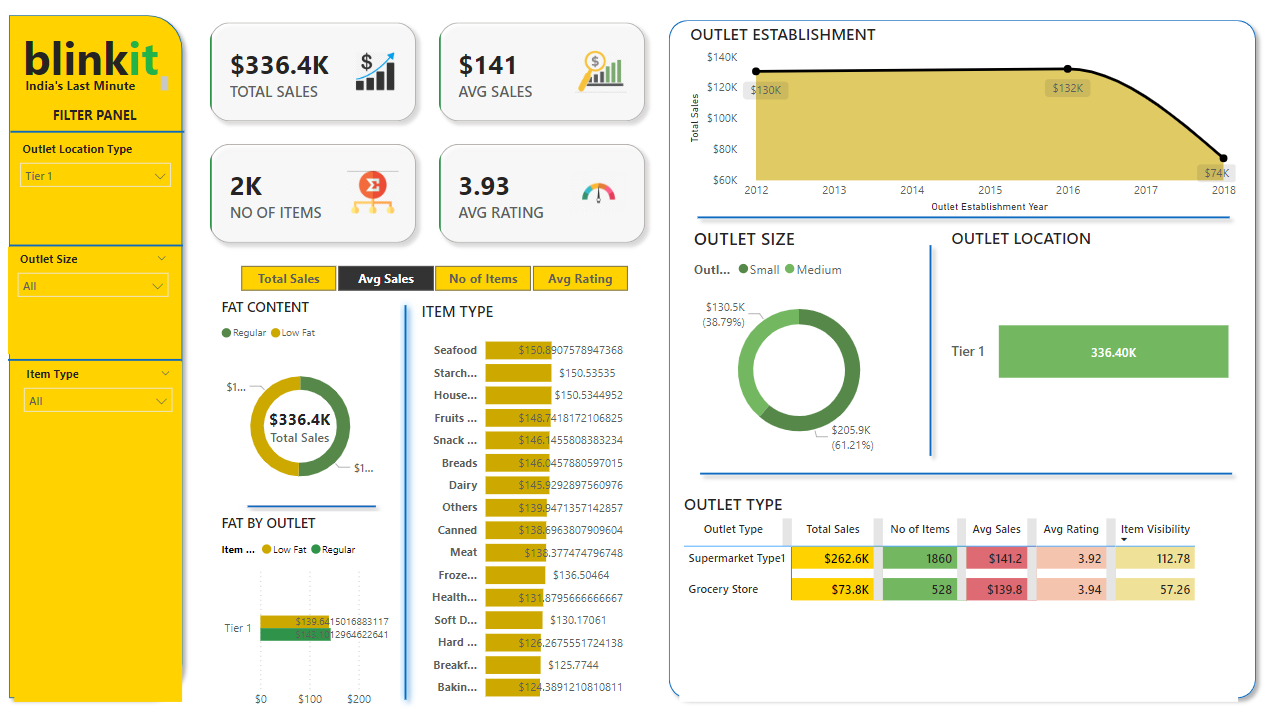

The page's visual inventory and layout, read from the dashboard file:
{"tool":"powerbi","page":{"name":"Page 1","canvas":[1400,800],"ordinal":0},"visuals":[{"type":"shape","box":[13.5,25.5,204.1,750.4],"z":0},{"type":"textbox","box":[31.5,42,171.1,84],"z":1000},{"type":"textbox","box":[34.5,94.6,163.6,31.5],"z":2000},{"type":"cardVisual","fields":{"Data":["BlinkIT Grocery Data.Total Sales","BlinkIT Grocery Data.Avg Sales","BlinkIT Grocery Data.No of Items","BlinkIT Grocery Data.Avg Rating"]},"box":[221.2,25.5,500,270.8],"z":3000},{"type":"donutChart","title":"FAT CONTENT","fields":{"Y":["BlinkIT Grocery Data.No of Items"],"Category":["BlinkIT Grocery Data.Item Fat Content"]},"box":[245.3,336.5,179.6,230.6],"z":4000},{"type":"slicer","fields":{"Values":["Metrics.Metrics"]},"box":[245.3,296.2,465.1,40.2],"z":5000},{"type":"cardVisual","fields":{"Data":["BlinkIT Grocery Data.Total Sales"]},"box":[282.8,437,103.2,77.7],"z":6000},{"type":"clusteredBarChart","title":"FAT BY OUTLET","fields":{"Y":["BlinkIT Grocery Data.No of Items"],"Category":["BlinkIT Grocery Data.Outlet Location Type"],"Series":["BlinkIT Grocery Data.Item Fat Content"]},"box":[245.3,568.4,202.4,217.2],"z":7000},{"type":"shape","box":[435.7,336.5,24.1,441],"z":8000},{"type":"shape","box":[269.4,552.3,155.5,14.7],"z":9000},{"type":"barChart","title":"ITEM TYPE","fields":{"Y":["BlinkIT Grocery Data.No of Items"],"Category":["BlinkIT Grocery Data.Item Type"]},"box":[459.8,340.5,226.5,439.7],"z":10000},{"type":"shape","box":[721.2,30.8,647.5,745.3],"z":11000},{"type":"lineChart","title":"OUTLET ESTABLISHMENT","fields":{"Category":["BlinkIT Grocery Data.Outlet Establishment Year"],"Y":["BlinkIT Grocery Data.Total Sales"]},"box":[748,42.9,595.2,207.8],"z":12000},{"type":"donutChart","title":"OUTLET SIZE","fields":{"Y":["BlinkIT Grocery Data.Total Sales"],"Category":["BlinkIT Grocery Data.Outlet Size"]},"box":[752,261.4,235.9,253.4],"z":13000},{"type":"shape","box":[752,230.6,588.5,41.6],"z":14000},{"type":"funnel","title":"OUTLET LOCATION","fields":{"Category":["BlinkIT Grocery Data.Outlet Location Type"],"Y":["Sum(BlinkIT Grocery Data.Sales)"]},"box":[1028.2,261.4,312.3,244],"z":15000},{"type":"shape","box":[754.7,505.4,588.5,41.6],"z":16000},{"type":"pivotTable","title":"OUTLET TYPE","fields":{"Rows":["BlinkIT Grocery Data.Outlet Type"],"Values":["BlinkIT Grocery Data.Total Sales","BlinkIT Grocery Data.No of Items","BlinkIT Grocery Data.Avg Sales","BlinkIT Grocery Data.Avg Rating","Sum(BlinkIT Grocery Data.Item Visibility)"]},"box":[741.3,546.9,599.2,223.9],"z":17000},{"type":"shape","box":[992,272.1,37.5,244],"z":18000},{"type":"slicer","fields":{"Values":["BlinkIT Grocery Data.Outlet Location Type"]},"box":[24.1,164.9,182.3,108.6],"z":19000},{"type":"slicer","fields":{"Values":["BlinkIT Grocery Data.Outlet Size"]},"box":[21.4,282.8,182.3,115.3],"z":20000},{"type":"slicer","fields":{"Values":["BlinkIT Grocery Data.Item Type"]},"box":[28.2,406.2,179.6,364.6],"z":21000},{"type":"shape","box":[24.1,147.5,186.3,24.1],"z":22000},{"type":"shape","box":[22.8,273.5,186.3,16.1],"z":23000},{"type":"shape","box":[21.4,398.1,186.3,12.1],"z":24000},{"type":"textbox","box":[64.3,127.3,113.9,32.2],"z":25000}]}

Visuals, with their boxes in screenshot pixels (x1, y1, x2, y2), scaled from the page's 1400x800 canvas onto the 1270x715 screenshot:
shape: 12/23/197/693
textbox: 29/38/184/113
textbox: 31/85/180/113
cardVisual - BlinkIT Grocery Data.Total Sales x BlinkIT Grocery Data.Avg Sales: 201/23/654/265
"FAT CONTENT" donutChart: 223/301/385/507
slicer - Metrics.Metrics: 223/265/644/301
cardVisual - BlinkIT Grocery Data.Total Sales: 257/391/350/460
"FAT BY OUTLET" clusteredBarChart: 223/508/406/702
shape: 395/301/417/695
shape: 244/494/385/507
"ITEM TYPE" barChart: 417/304/623/697
shape: 654/28/1242/694
"OUTLET ESTABLISHMENT" lineChart: 679/38/1218/224
"OUTLET SIZE" donutChart: 682/234/896/460
shape: 682/206/1216/243
"OUTLET LOCATION" funnel: 933/234/1216/452
shape: 685/452/1218/489
"OUTLET TYPE" pivotTable: 672/489/1216/689
shape: 900/243/934/461
slicer - BlinkIT Grocery Data.Outlet Location Type: 22/147/187/244
slicer - BlinkIT Grocery Data.Outlet Size: 19/253/185/356
slicer - BlinkIT Grocery Data.Item Type: 26/363/189/689
shape: 22/132/191/153
shape: 21/244/190/259
shape: 19/356/188/367
textbox: 58/114/162/143
